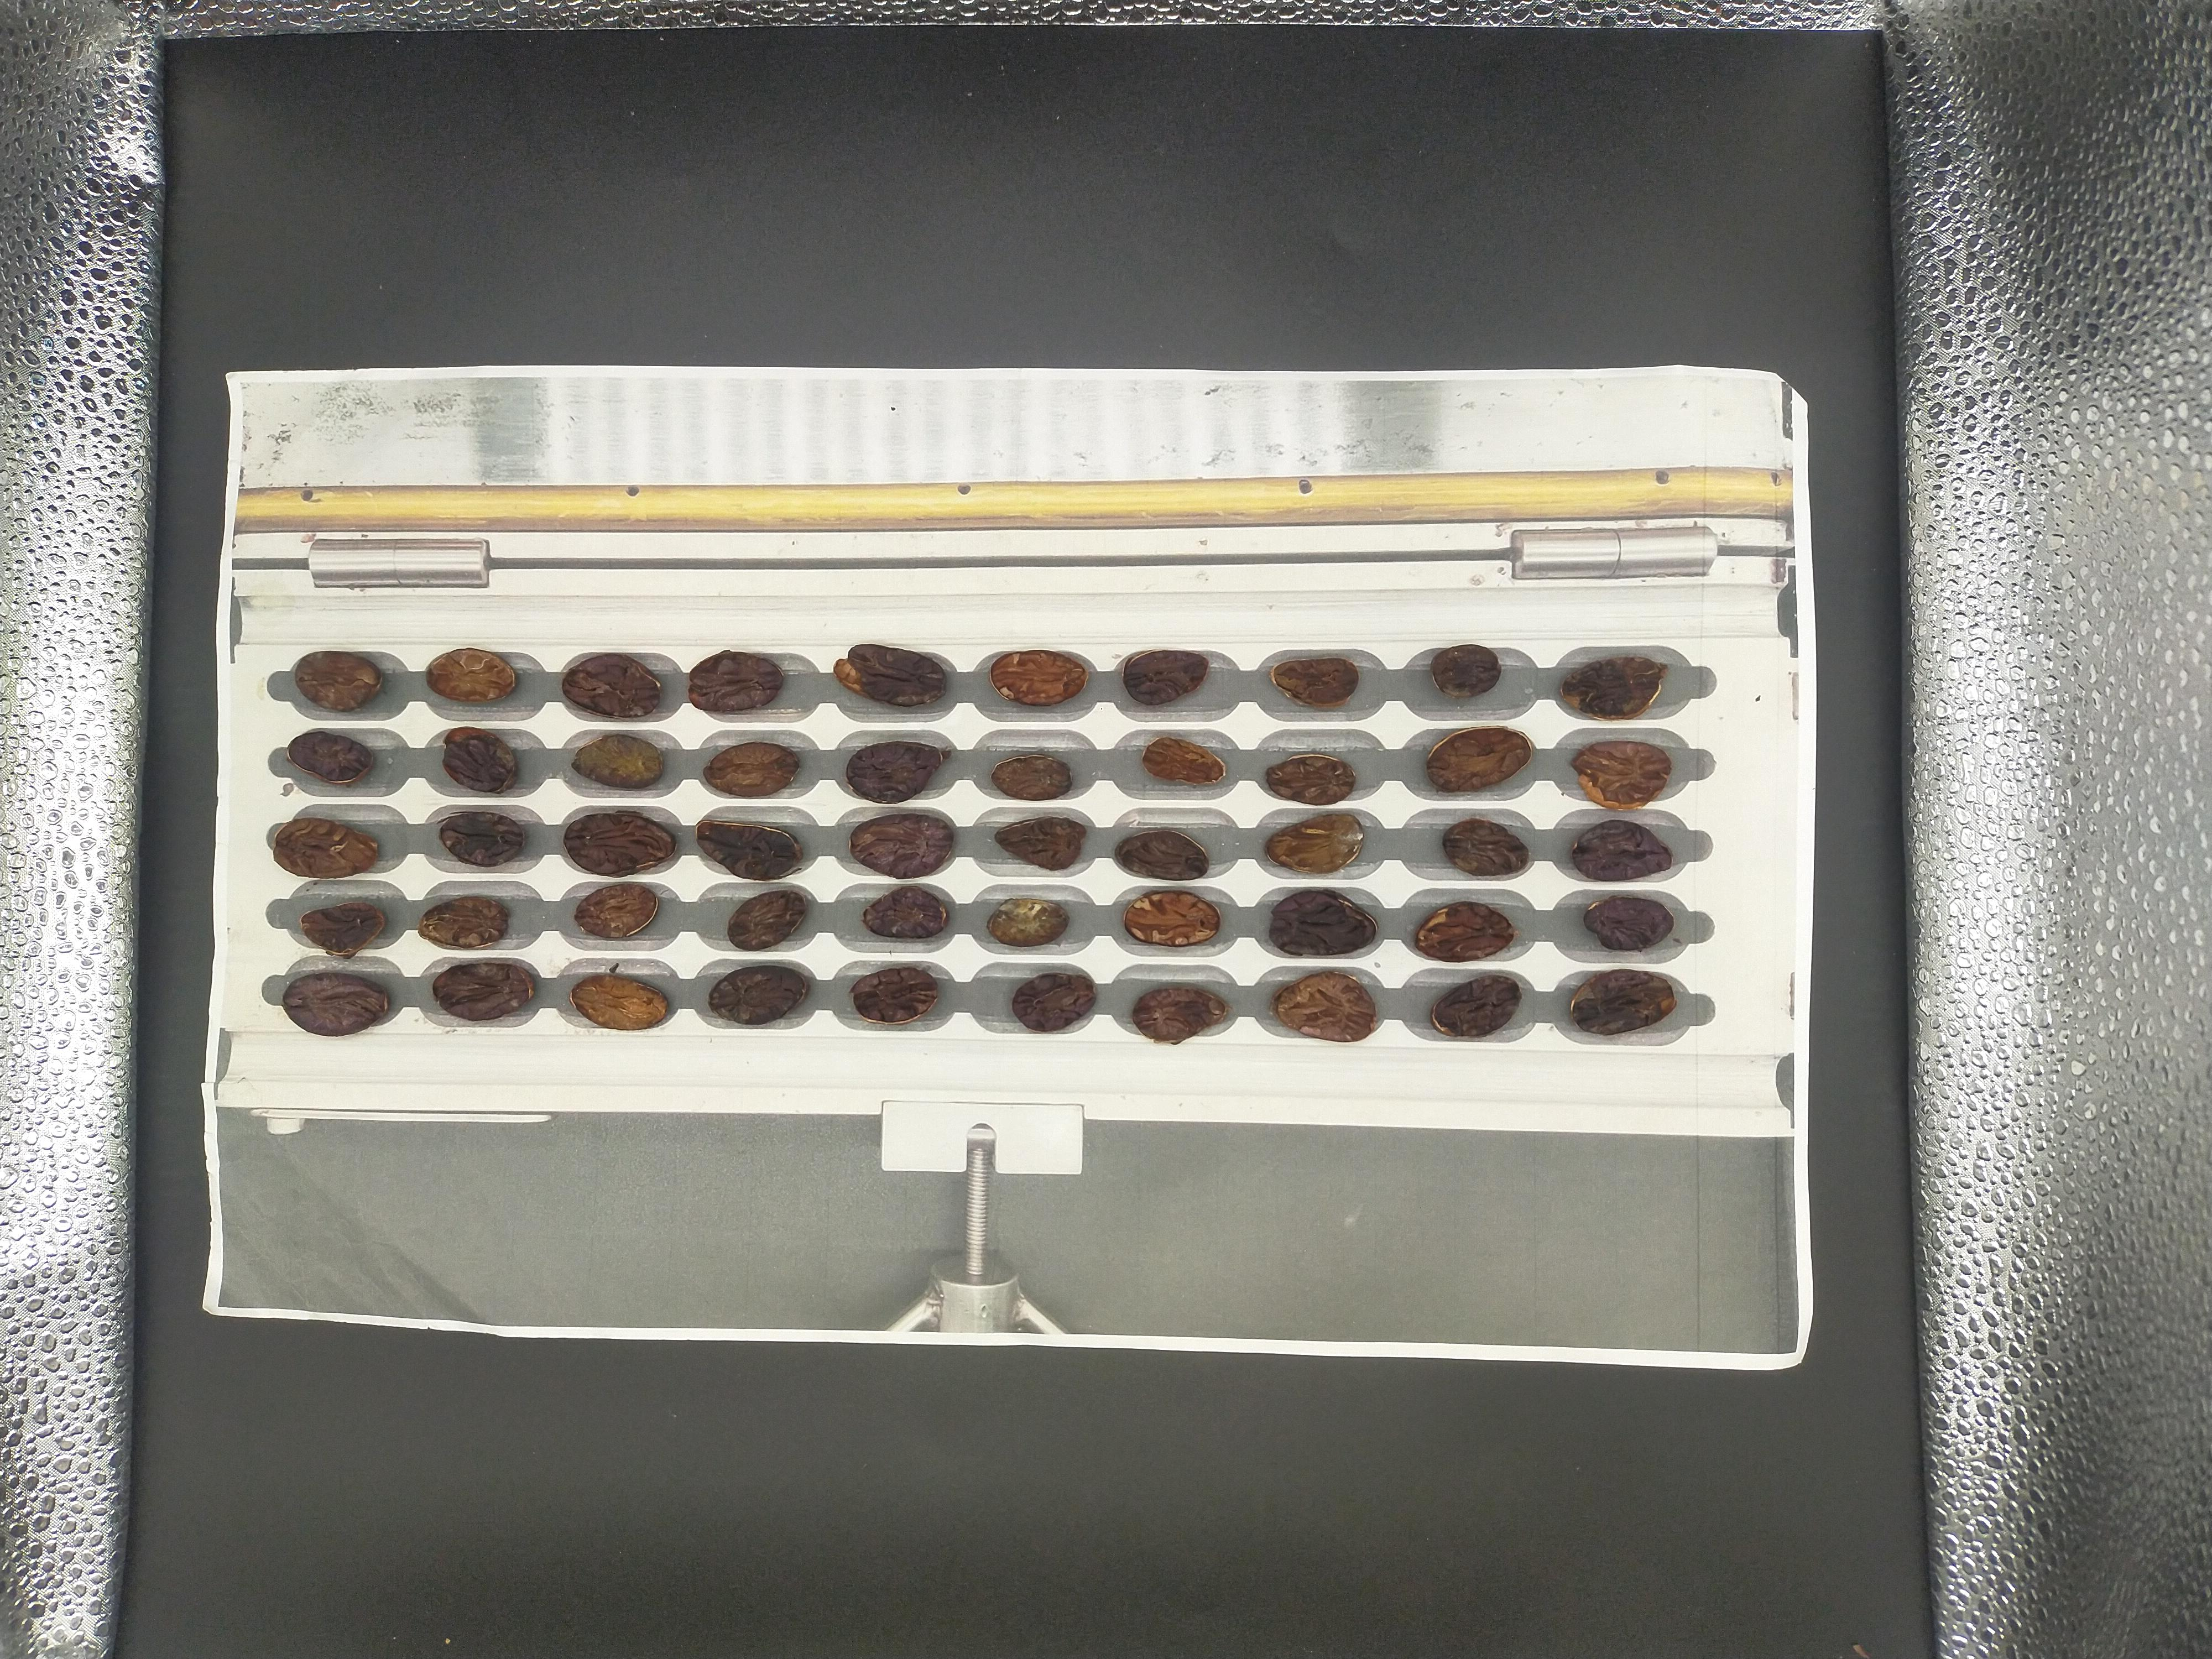Brown - G1: (1369, 413, 1428, 451), (1885, 373, 1939, 413), (1804, 460, 1857, 493), (1587, 331, 1637, 364), (1294, 455, 1339, 490), (1656, 458, 1705, 490), (1298, 333, 1345, 364), (1662, 375, 1709, 401), (1730, 385, 1777, 410)
Brown - G2: (1730, 498, 1785, 537), (1219, 416, 1273, 451), (1660, 502, 1707, 535), (1376, 451, 1418, 486), (1588, 418, 1639, 444)
Brown - G3: (1367, 490, 1426, 532), (1810, 373, 1867, 413), (1730, 329, 1780, 364), (1231, 331, 1280, 366), (1442, 375, 1491, 410)
Brown - G4: (1585, 380, 1632, 413)
Insect-damaged: (1369, 373, 1423, 411)
Mouldy: (1726, 415, 1782, 448), (1581, 457, 1627, 486)
Partly Purple - G1: (1730, 457, 1784, 495), (1514, 491, 1562, 532)
Partly Purple - G2: (1510, 416, 1573, 455), (1881, 495, 1940, 528), (1435, 418, 1493, 451), (1810, 500, 1864, 533), (1595, 493, 1644, 530), (1432, 335, 1482, 369), (1301, 491, 1357, 523), (1651, 328, 1698, 362)
Total Purple - G2: (1883, 418, 1940, 450), (1517, 457, 1566, 486)
Total Purple - G3: (1508, 380, 1569, 413), (1226, 497, 1284, 532), (1888, 460, 1942, 488), (1228, 373, 1273, 406)
Very Dark Brown - G1: (1508, 328, 1568, 366), (1878, 336, 1939, 368), (1306, 371, 1346, 410)
Very Dark Brown - G2: (1366, 333, 1423, 371), (1231, 458, 1277, 493), (1306, 415, 1352, 446), (1453, 453, 1494, 486), (1820, 420, 1862, 453)
Very Dark Brown - G3: (1442, 490, 1496, 528), (1813, 324, 1851, 362), (1651, 423, 1698, 453)
